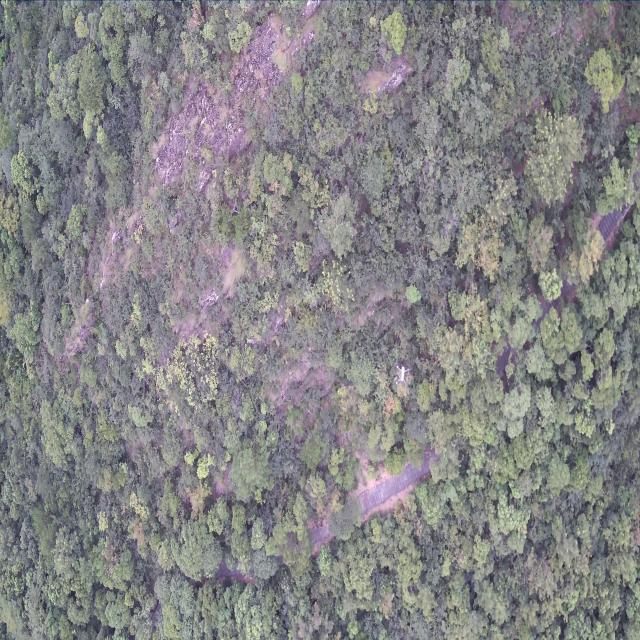UAV: (396, 365, 410, 386)
